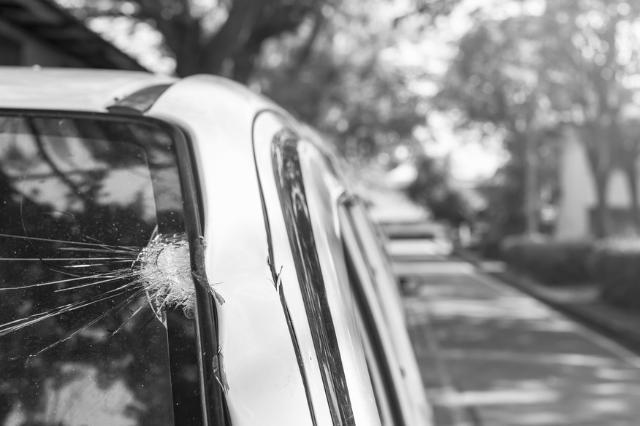Windshield: (0, 117, 206, 426)
